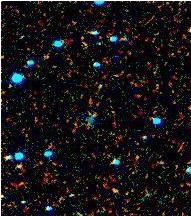star: (96, 169, 126, 199)
